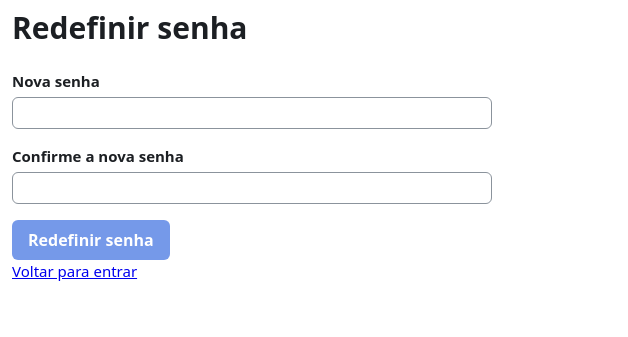
it: confirmação da senha › não envia quando as senhas divergem
In the password field labelled "Nova senha": (252, 113) x1=12 y1=97 x2=492 y2=129, type "senha-nova-123"
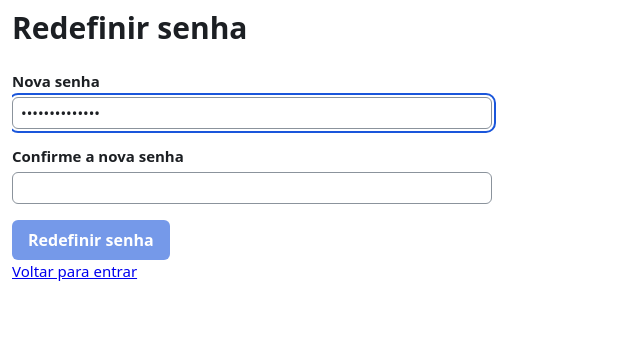
In the password field labelled "Confirme a nova senha": (252, 188) x1=12 y1=172 x2=492 y2=204, type "outra-coisa"
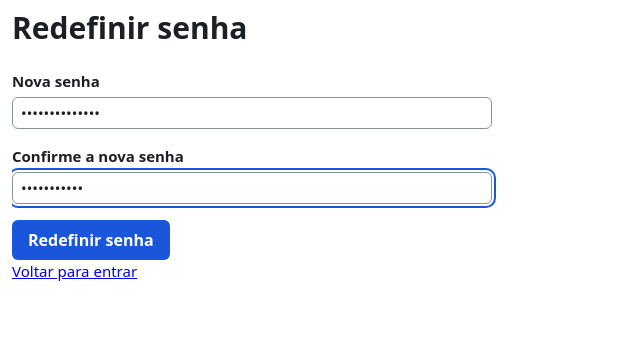
Click the button "Redefinir senha": (91, 240) x1=12 y1=220 x2=170 y2=260
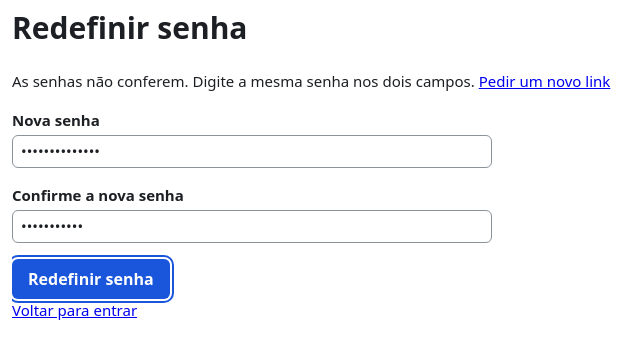
Expected: the message shows "não conferem", x1=12 y1=71 x2=475 y2=91
